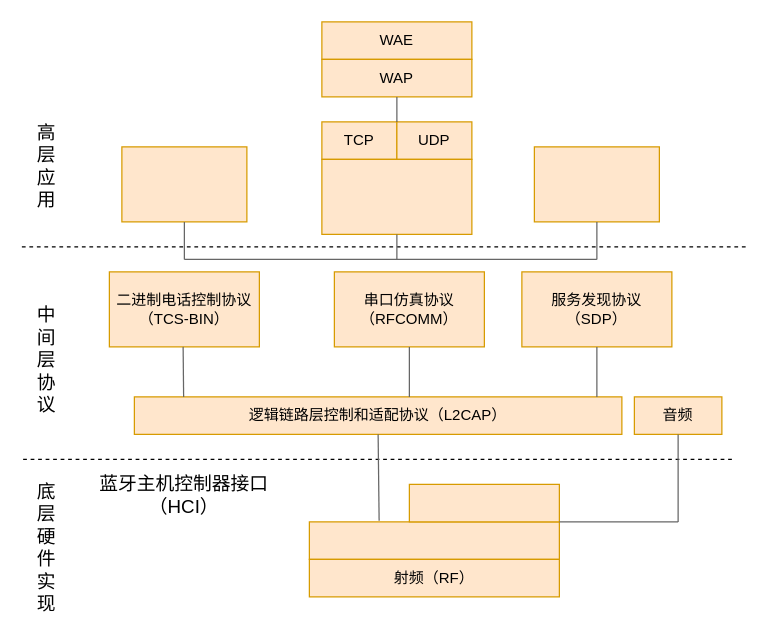
Some shapes in this 770 by 636 pixel diagram are drawn without their labels. Each missing label, with the centre of its shape:
基带（BB）: point (433, 540)
对象交换协议（OBEX）: point (184, 184)
点对点协议 （PPP）: point (396, 196)
链路管理协议（LMP）: point (483, 502)
音频/电话 （A/T命令）: point (596, 184)
